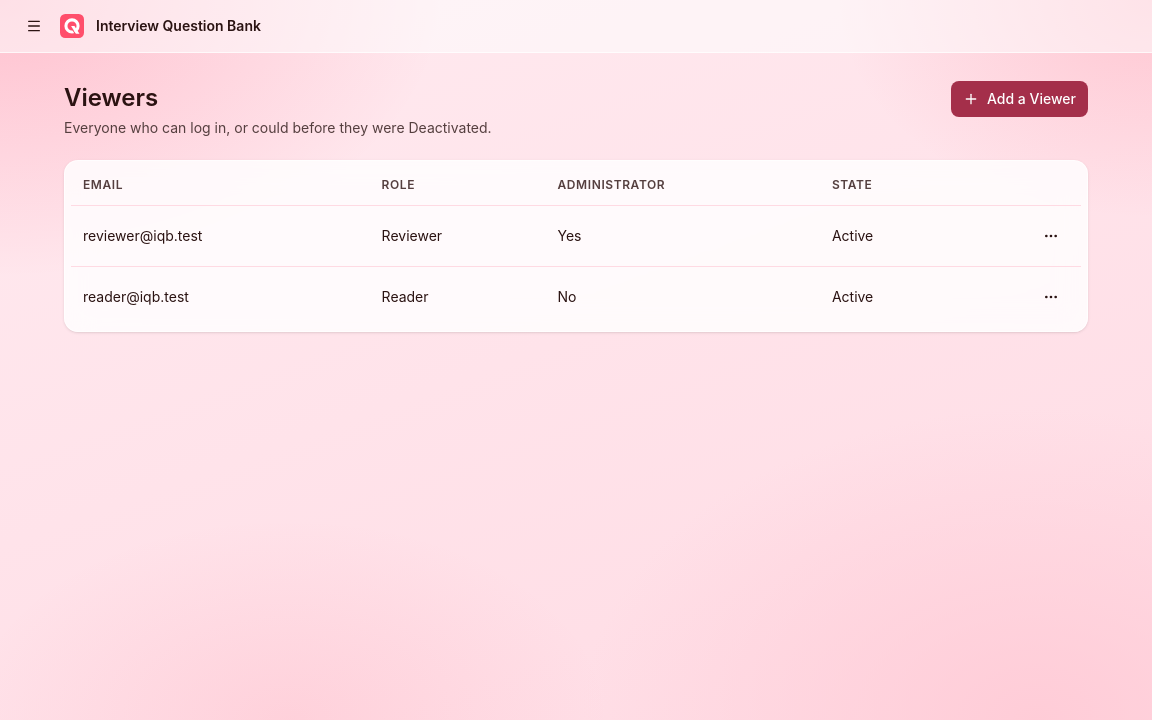
acting on one Viewer from the administration console › changes a Viewer's role to the one picked
Click the button named "Actions for reader@iqb.test": click(1051, 297) [1033,279,1069,315]
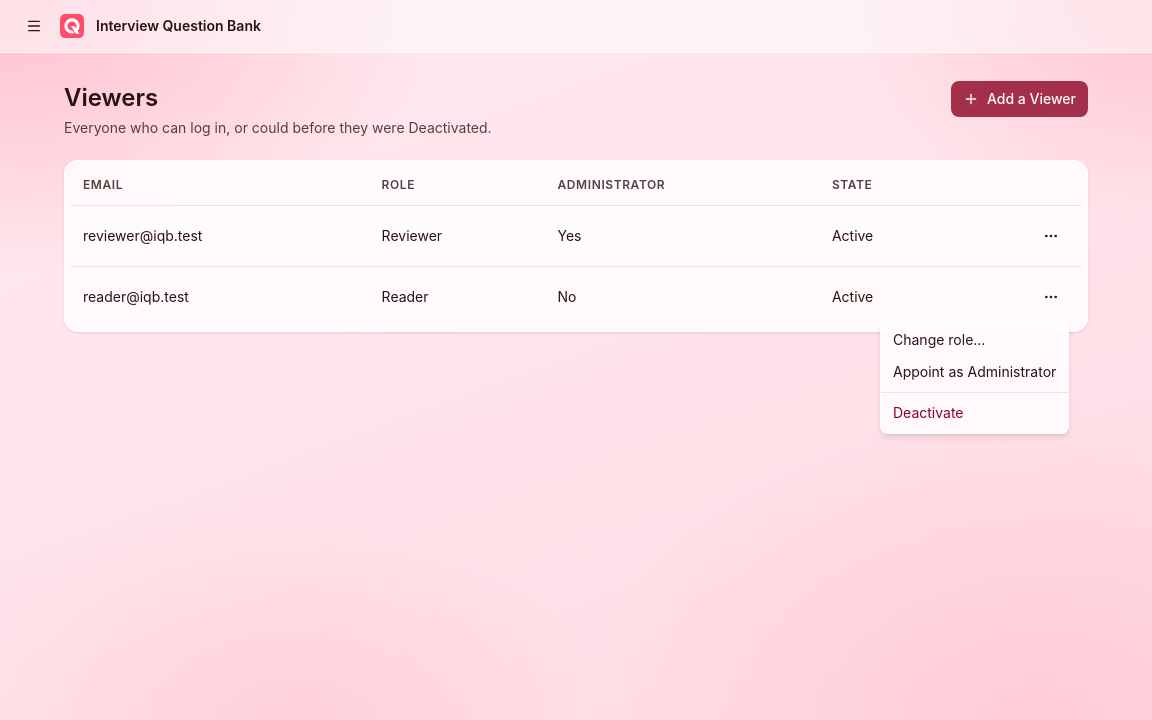
Click the menu item "Change role…": click(939, 340) [893,331,985,348]
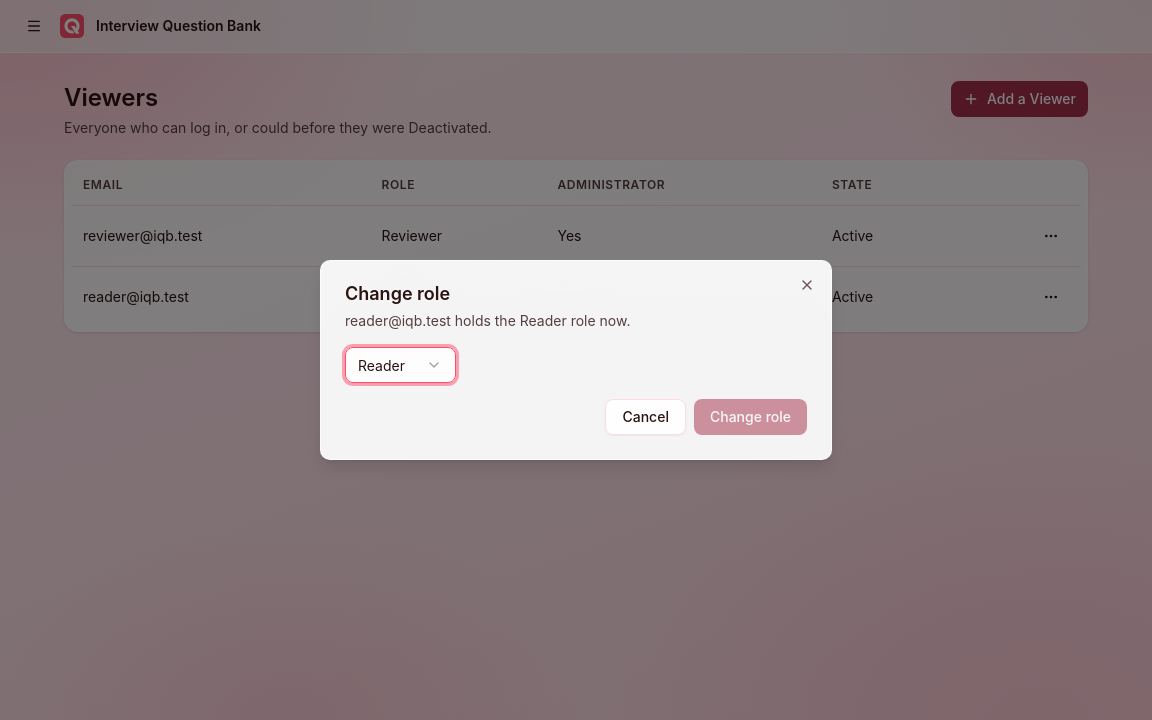
Select "Author" in the dropdown named "Role for reader@iqb.test": (400, 365) [345,347,456,383]
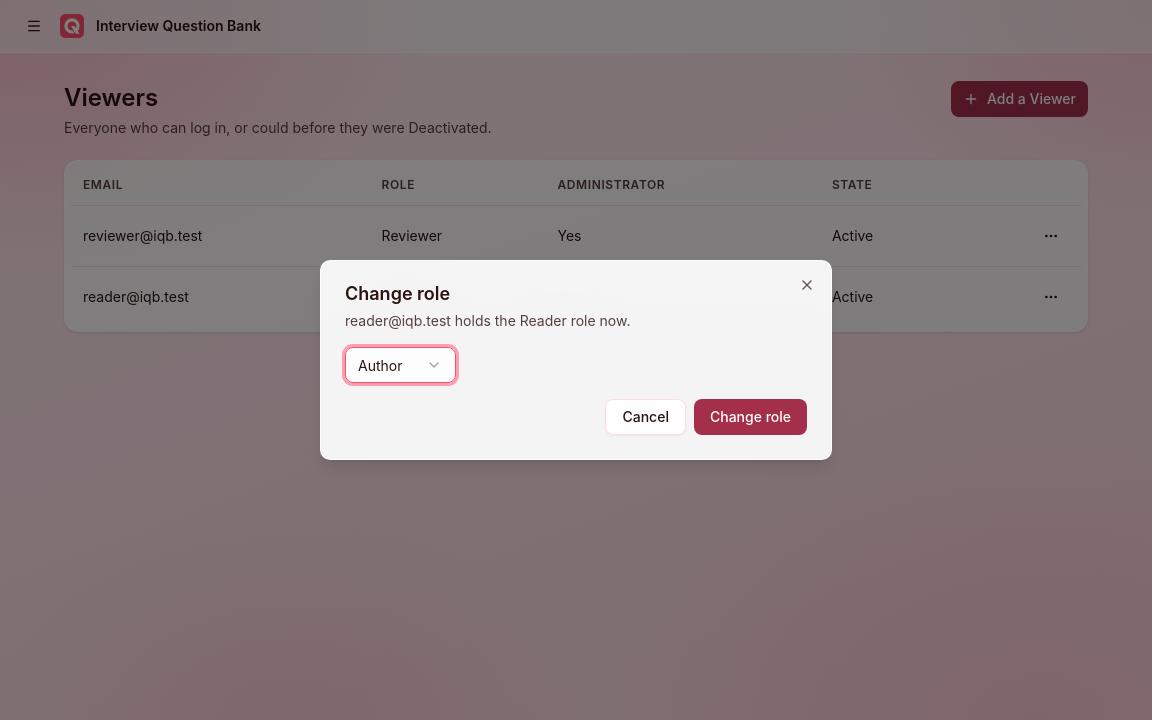
Click the button "Change role": click(750, 417) [694,399,807,435]
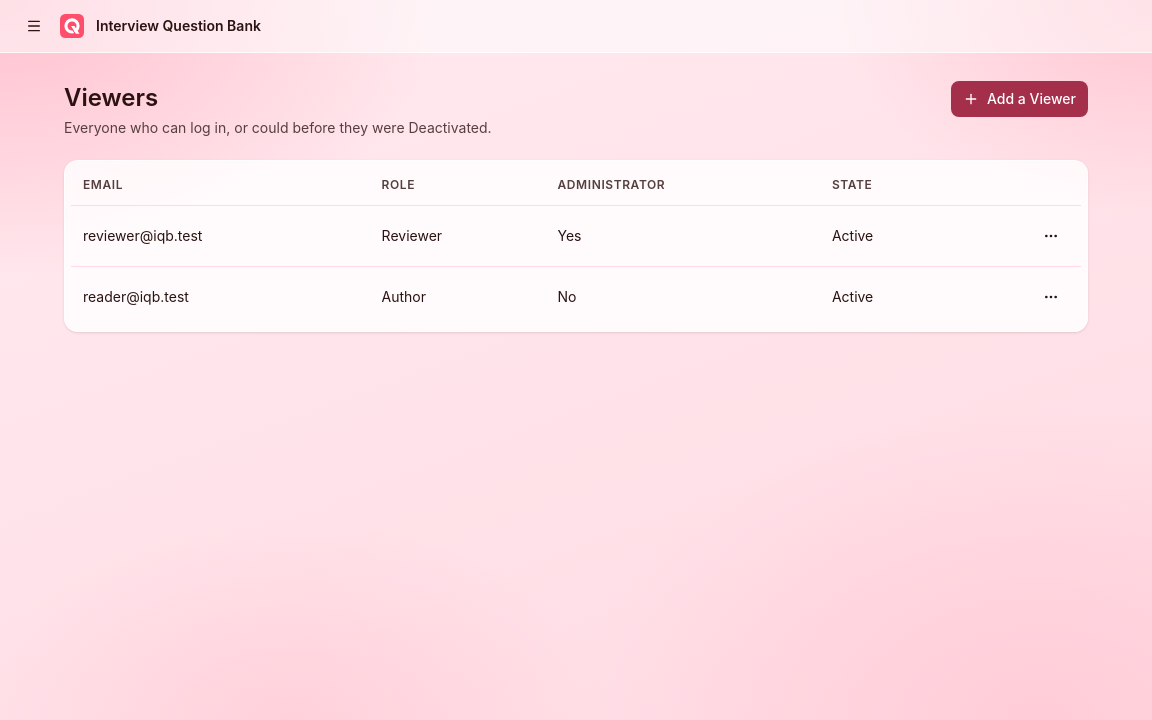
Check: the cell "Author" is shown, box [370,266,546,327]
Check: the dialog is gone
